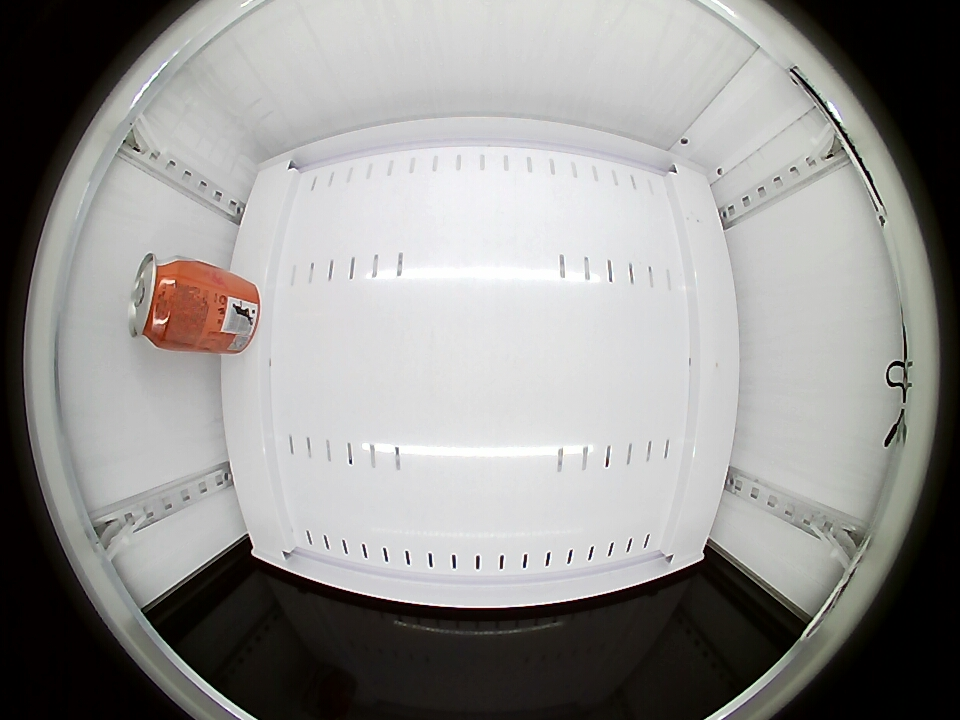jianlibao: (129, 254, 190, 347)
